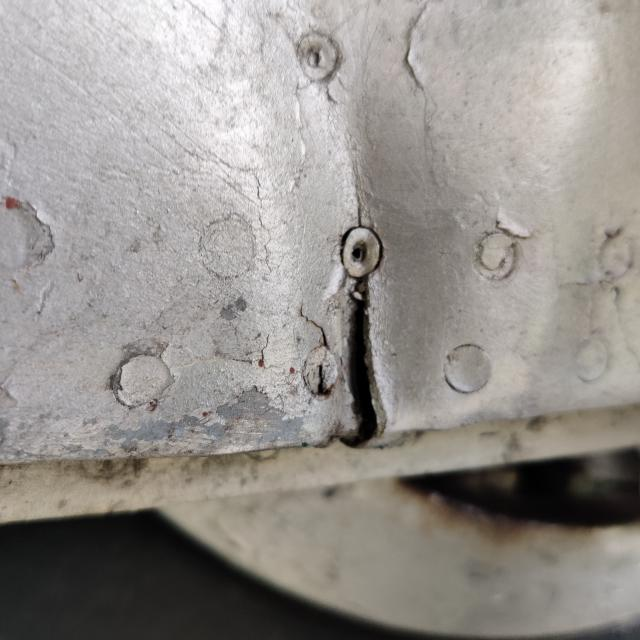crack: (296, 252, 422, 463)
